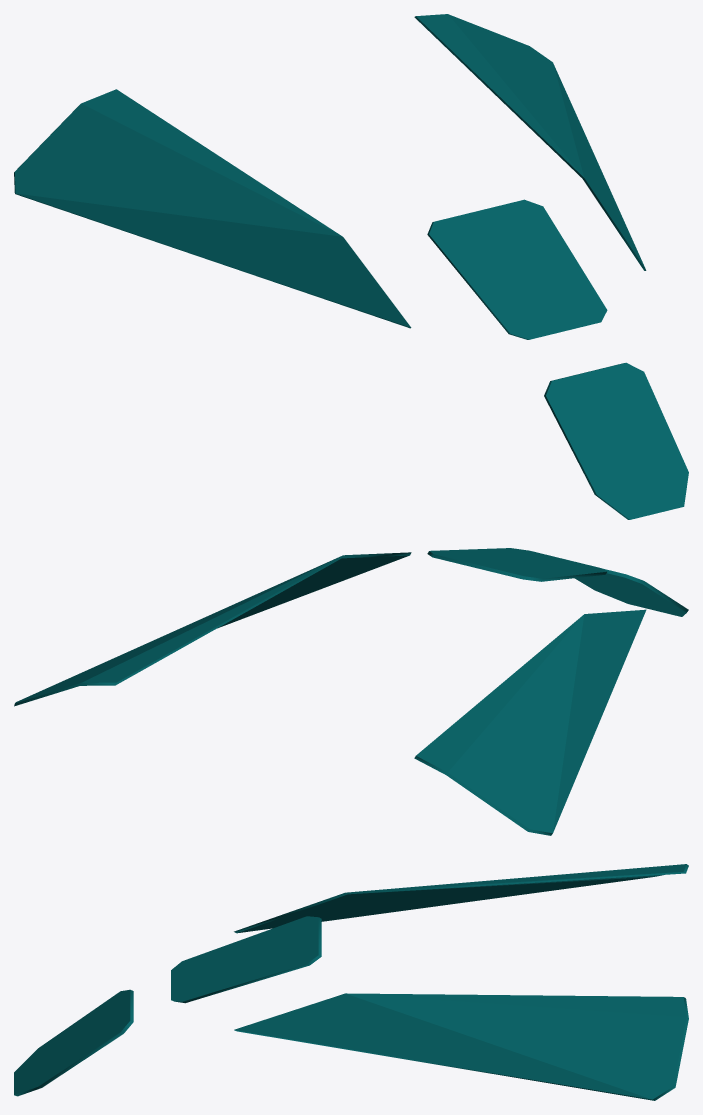
The model's file is starship_005_window.fbx.
3 renders of one model, top to bottom at view 1: azimuth 30°, elevation 25°; view 2: azimuth 150°, elevation 25°; view 3: azimuth 270°, elevation 25°, orthographic. The views are drawn at different scales.
Visible parts, largest first — view 1: starship_005_window; view 2: starship_005_window; view 3: starship_005_window.
Part boxes in pixels (x1,y1,x2,y2): starship_005_window: [14, 14, 688, 519]; starship_005_window: [14, 548, 688, 835]; starship_005_window: [14, 864, 688, 1100].
Size of the model in its own units: 302 by 94.44 by 383.
